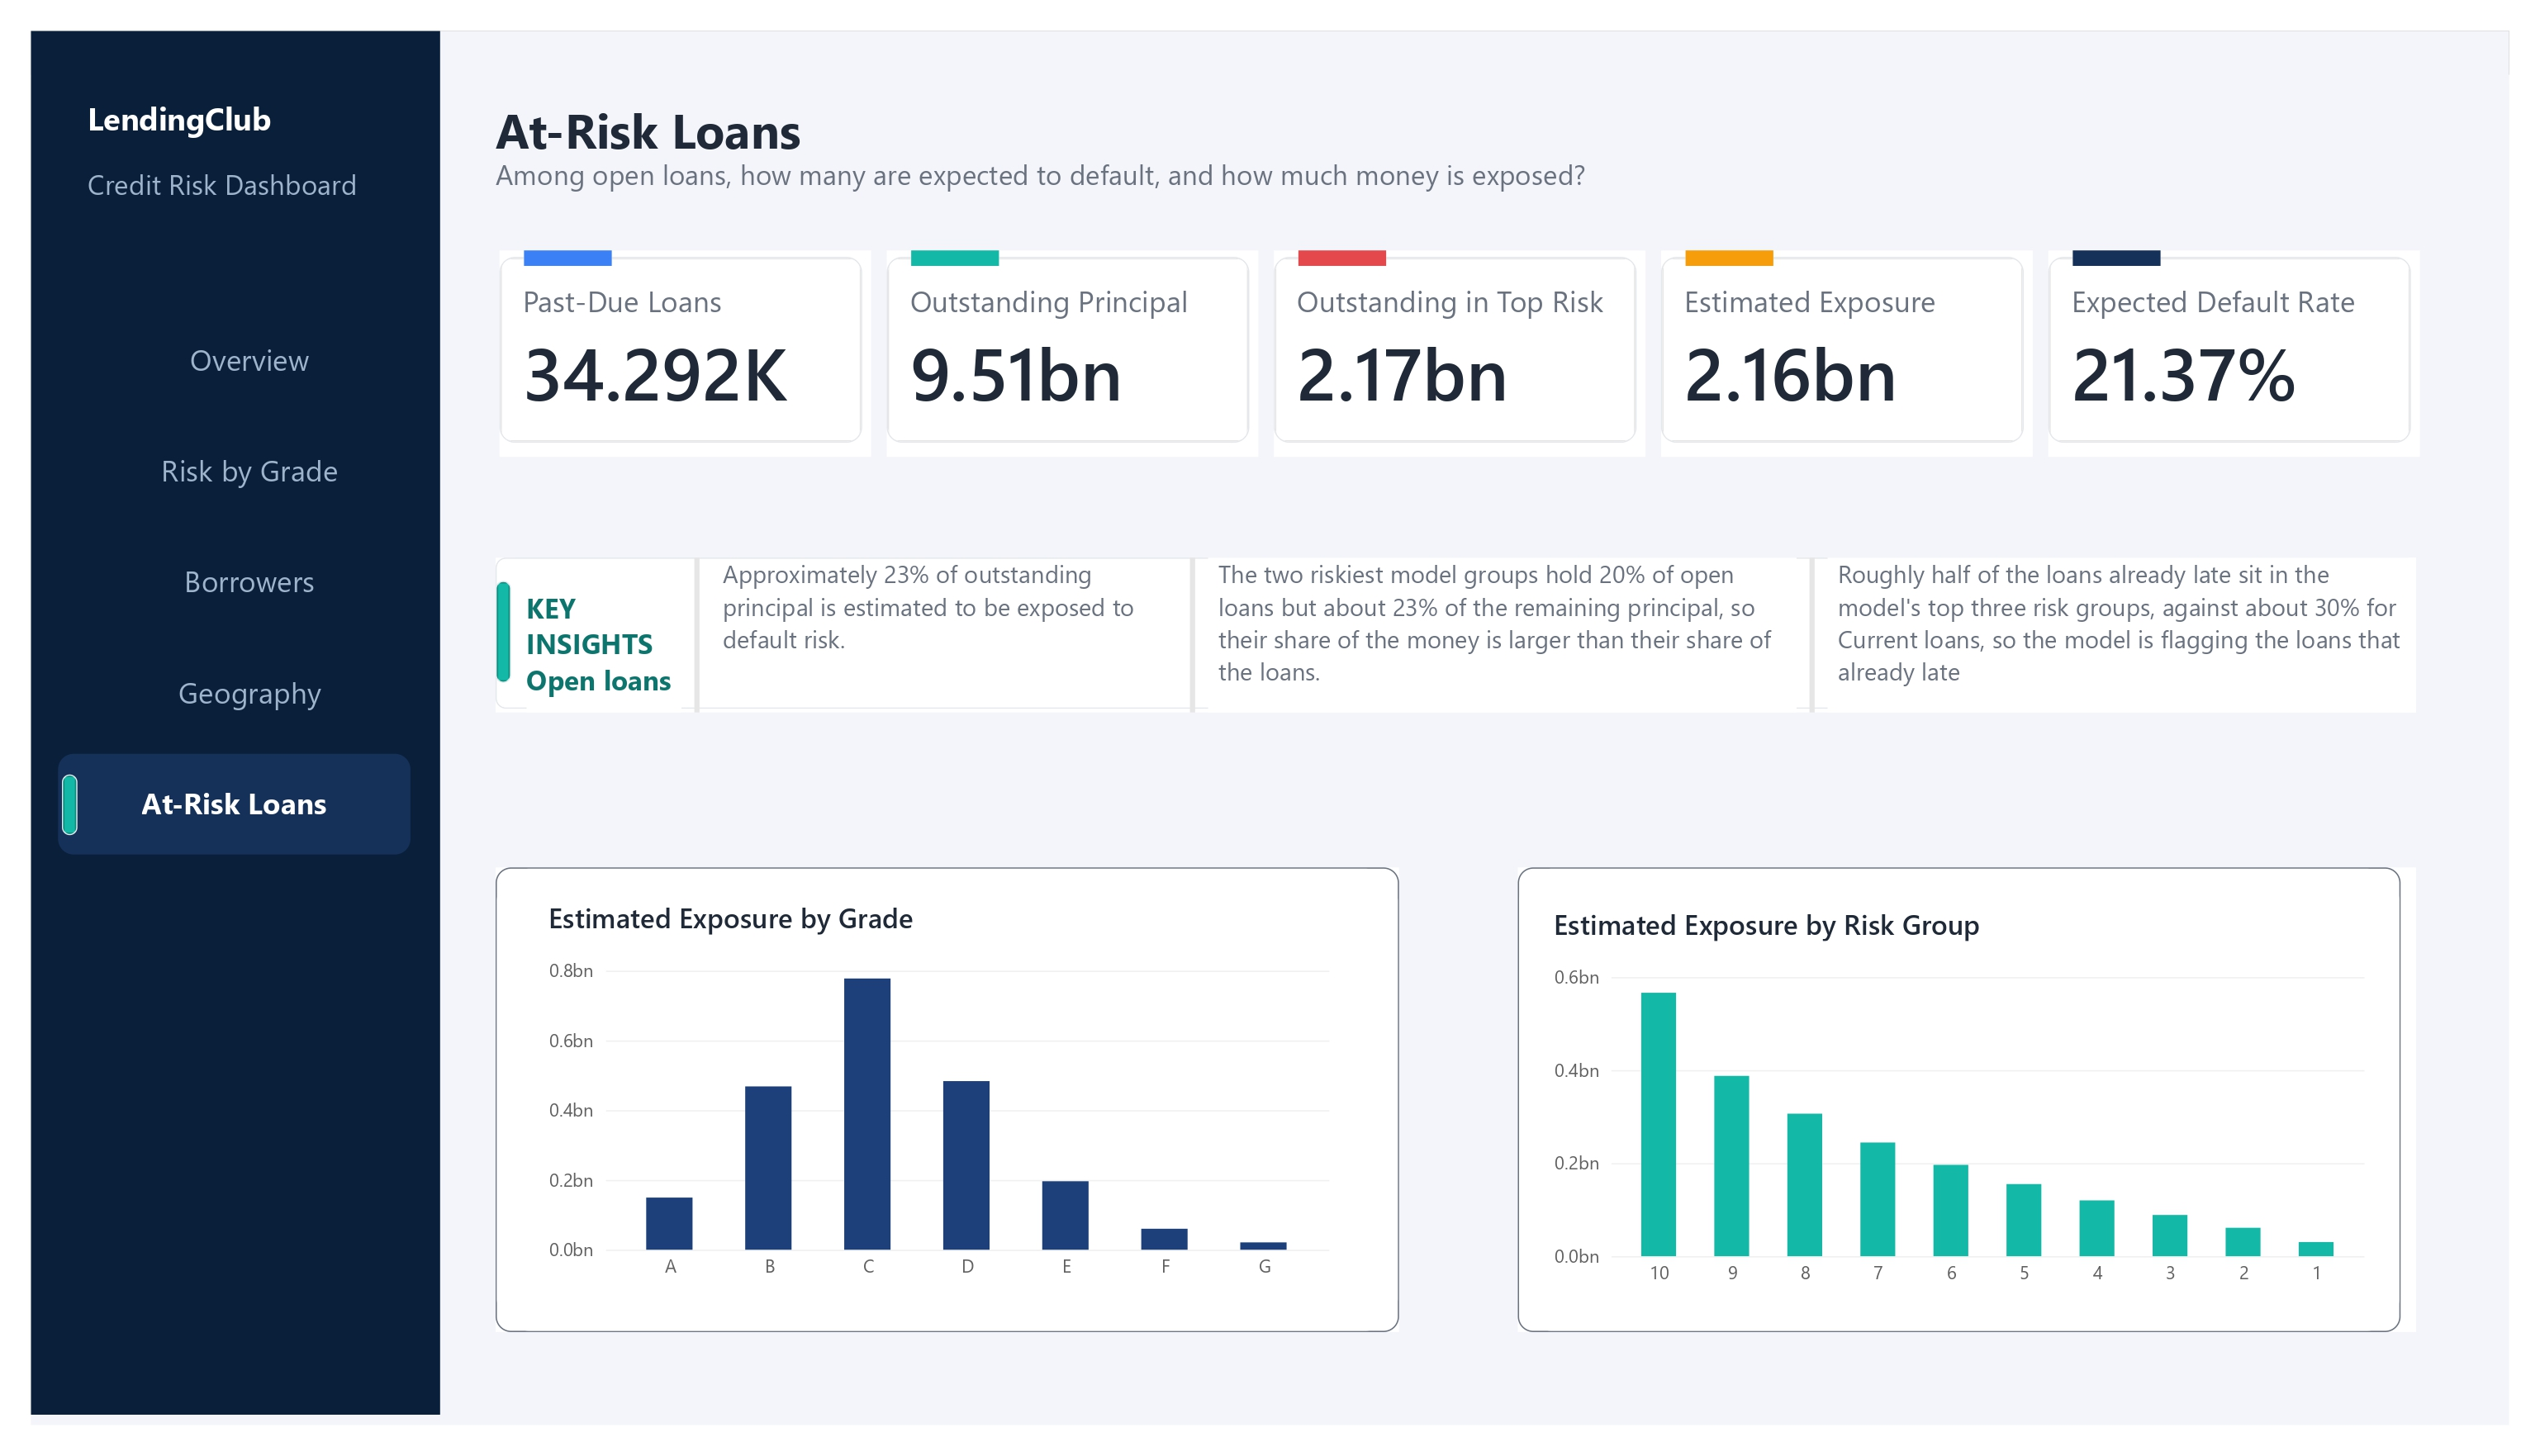

This screenshot's page, from the dashboard's own definition file:
{"tool":"powerbi","page":{"name":"At-Risk Loans","canvas":[1920,1080],"ordinal":4},"visuals":[{"type":"shape","box":[0,-8,317,1080],"z":0},{"type":"cardVisual","fields":{"Data":["CountNonNull(predictions_for_powerbi.id)"]},"box":[362.5,175.2,281,144],"z":0,"group":"g5"},{"type":"cardVisual","fields":{"Data":["Sum(loans_dashboard.out_prncp)"]},"box":[662.5,175.2,281,144],"z":0,"group":"g2"},{"type":"cardVisual","fields":{"Data":["Sum(loans_dashboard.out_prncp)"]},"box":[962.5,175.2,281,144],"z":0,"group":"g3"},{"type":"cardVisual","fields":{"Data":["predictions_for_powerbi.Estimated Exposure"]},"box":[1262.5,175.2,281,144],"z":0,"group":"g4"},{"type":"cardVisual","fields":{"Data":["Avg(predictions_for_powerbi.p_default)"]},"box":[1562.5,175.2,281,144],"z":0,"group":"g6"},{"type":"textbox","box":[44,51,245,57],"z":1000},{"type":"shape","box":[381.5,170.2,68,12],"z":1000,"group":"g5"},{"type":"shape","box":[681.5,170.2,68,12],"z":1000,"group":"g2"},{"type":"shape","box":[981.5,170.2,68,12],"z":1000,"group":"g3"},{"type":"shape","box":[1281.5,170.2,68,12],"z":1000,"group":"g4"},{"type":"shape","box":[1581.5,170.2,68,12],"z":1000,"group":"g6"},{"type":"textbox","box":[44,104,245,44],"z":2000},{"type":"pageNavigator","box":[21,216,273,426],"z":3000},{"type":"shape","box":[24,576,12,47],"z":4000},{"type":"textbox","box":[360,51,552,72],"z":5000},{"type":"textbox","box":[360,96,912,48],"z":6000},{"type":"group","id":"g1","title":"Group 2","box":[360,648,700,360],"z":7000},{"type":"group","id":"g2","title":"Group 1","box":[662.5,170.2,288,160],"z":8000},{"type":"group","id":"g3","title":"Group 1","box":[962.5,170.2,288,160],"z":9000},{"type":"group","id":"g4","title":"Group 1","box":[1262.5,170.2,288,160],"z":10000},{"type":"group","id":"g5","title":"Group 1","box":[362.5,170.2,288,160],"z":11000},{"type":"group","id":"g6","title":"Group 1","box":[1562.5,170.2,288,160],"z":12000},{"type":"shape","box":[360,408,1488,116.7],"z":12000,"group":"g7"},{"type":"group","id":"g7","title":"Group 4","box":[360,408,1488,120],"z":13000},{"type":"shape","box":[360,426.3,12,78.3],"z":13000,"group":"g7"},{"type":"shape","box":[360,648,700,360],"z":13000,"group":"g1"},{"type":"group","id":"g8","title":"Group 3","box":[1152,648,696,360],"z":14000},{"type":"shape","box":[1152,648,683.8,360],"z":15000,"group":"g8"},{"type":"clusteredColumnChart","title":"Estimated Exposure by Grade","fields":{"Category":["loans_dashboard.grade"],"Y":["predictions_for_powerbi.Estimated Exposure"]},"box":[385,658,637.5,330],"z":17005,"group":"g1"},{"type":"clusteredColumnChart","title":"Estimated Exposure by Risk Group","fields":{"Category":["predictions_for_powerbi.risk_decile"],"Y":["predictions_for_powerbi.Estimated Exposure"]},"box":[1164.2,663,659.4,330],"z":17007,"group":"g8"},{"type":"textbox","box":[384,432,120,96],"z":21000,"group":"g7"},{"type":"textbox","box":[1392,408,456,120],"z":22000,"group":"g7"},{"type":"textbox","box":[912,408,456,120],"z":23000,"group":"g7"},{"type":"textbox","box":[528,408,360,120],"z":24000,"group":"g7"},{"type":"shape","box":[888,408,24,120],"z":25000,"group":"g7"},{"type":"shape","box":[504,408,24,120],"z":26000,"group":"g7"},{"type":"shape","box":[1368,408,24,120],"z":27000,"group":"g7"}]}

Visuals, with their boxes on the page's 1920x1080 design canvas (x1, y1, x2, y2). These are canvas units, not pixel positions in the 2540x1456 screenshot, which may show the page scaled, cropped or inside an application window:
shape: bbox=[0, -8, 317, 1072]
cardVisual - CountNonNull(predictions_for_powerbi.id): bbox=[362, 175, 644, 319]
cardVisual - Sum(loans_dashboard.out_prncp): bbox=[662, 175, 944, 319]
cardVisual - Sum(loans_dashboard.out_prncp): bbox=[962, 175, 1244, 319]
cardVisual - predictions_for_powerbi.Estimated Exposure: bbox=[1262, 175, 1544, 319]
cardVisual - Avg(predictions_for_powerbi.p_default): bbox=[1562, 175, 1844, 319]
textbox: bbox=[44, 51, 289, 108]
shape: bbox=[382, 170, 450, 182]
shape: bbox=[682, 170, 750, 182]
shape: bbox=[982, 170, 1050, 182]
shape: bbox=[1282, 170, 1350, 182]
shape: bbox=[1582, 170, 1650, 182]
textbox: bbox=[44, 104, 289, 148]
pageNavigator: bbox=[21, 216, 294, 642]
shape: bbox=[24, 576, 36, 623]
textbox: bbox=[360, 51, 912, 123]
textbox: bbox=[360, 96, 1272, 144]
"Group 2" group: bbox=[360, 648, 1060, 1008]
"Group 1" group: bbox=[662, 170, 950, 330]
"Group 1" group: bbox=[962, 170, 1250, 330]
"Group 1" group: bbox=[1262, 170, 1550, 330]
"Group 1" group: bbox=[362, 170, 650, 330]
"Group 1" group: bbox=[1562, 170, 1850, 330]
shape: bbox=[360, 408, 1848, 525]
"Group 4" group: bbox=[360, 408, 1848, 528]
shape: bbox=[360, 426, 372, 505]
shape: bbox=[360, 648, 1060, 1008]
"Group 3" group: bbox=[1152, 648, 1848, 1008]
shape: bbox=[1152, 648, 1836, 1008]
"Estimated Exposure by Grade" clusteredColumnChart: bbox=[385, 658, 1022, 988]
"Estimated Exposure by Risk Group" clusteredColumnChart: bbox=[1164, 663, 1824, 993]
textbox: bbox=[384, 432, 504, 528]
textbox: bbox=[1392, 408, 1848, 528]
textbox: bbox=[912, 408, 1368, 528]
textbox: bbox=[528, 408, 888, 528]
shape: bbox=[888, 408, 912, 528]
shape: bbox=[504, 408, 528, 528]
shape: bbox=[1368, 408, 1392, 528]
